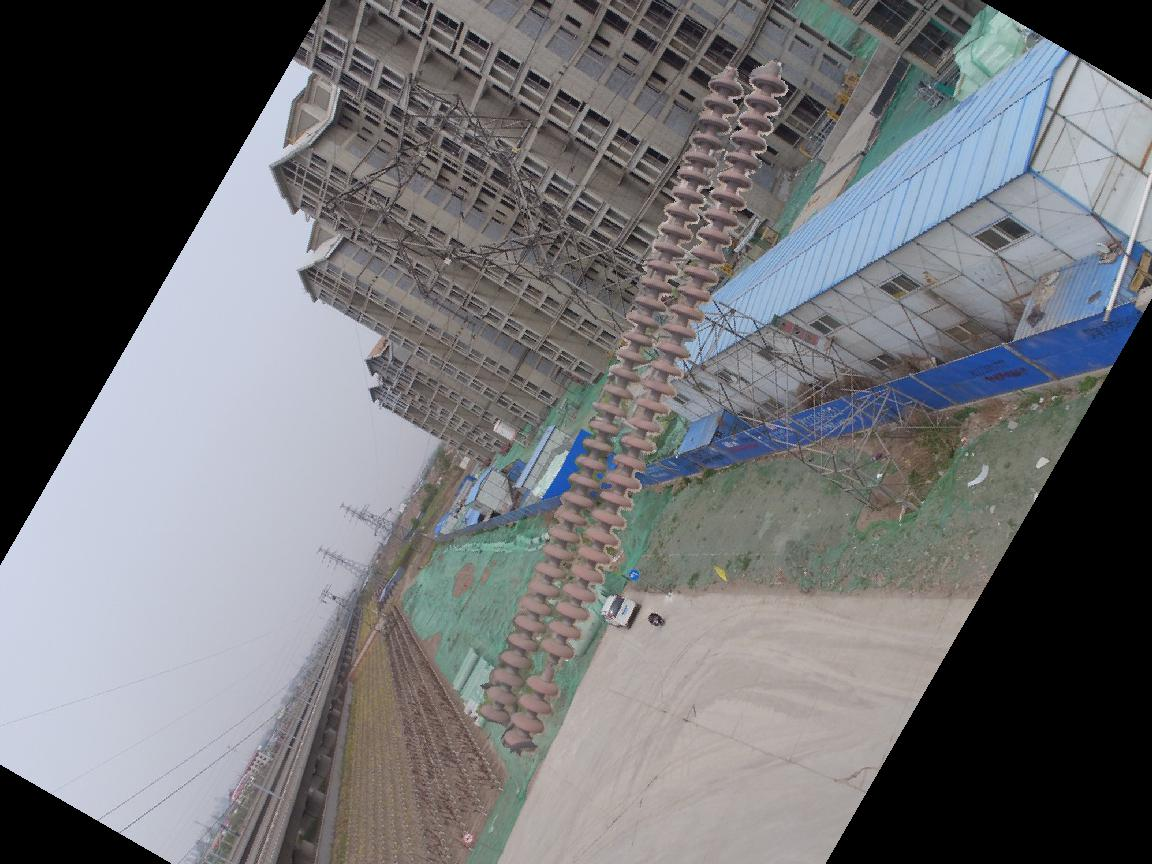insulator: (470, 59, 794, 756)
insulator_stringdrop: (524, 634, 578, 700)
